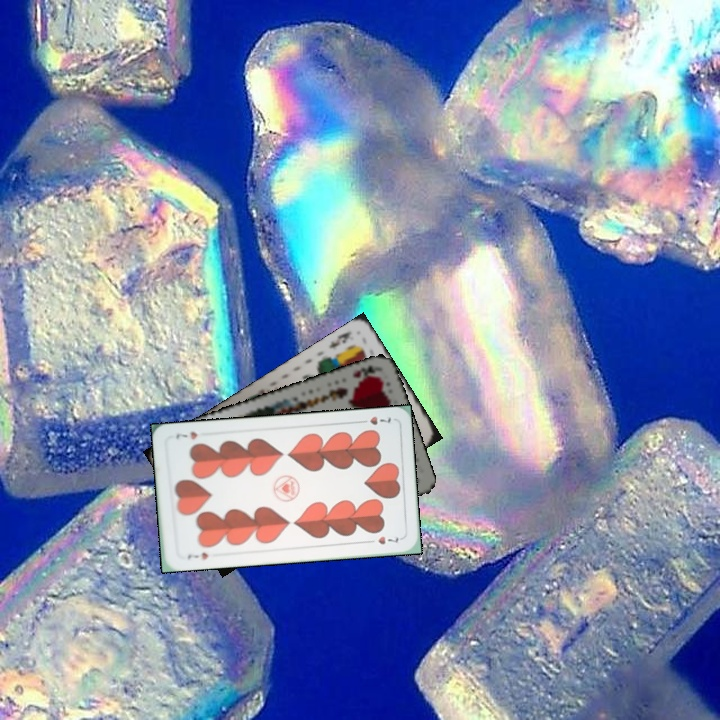EK: (325, 327, 355, 351)
H7: (355, 412, 393, 427), (183, 548, 210, 562)
HK: (349, 361, 382, 381)
